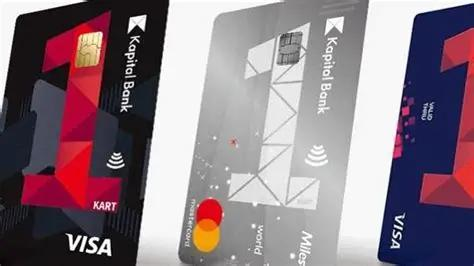Kapital Bank: (322, 16, 345, 36), (126, 15, 148, 35)
